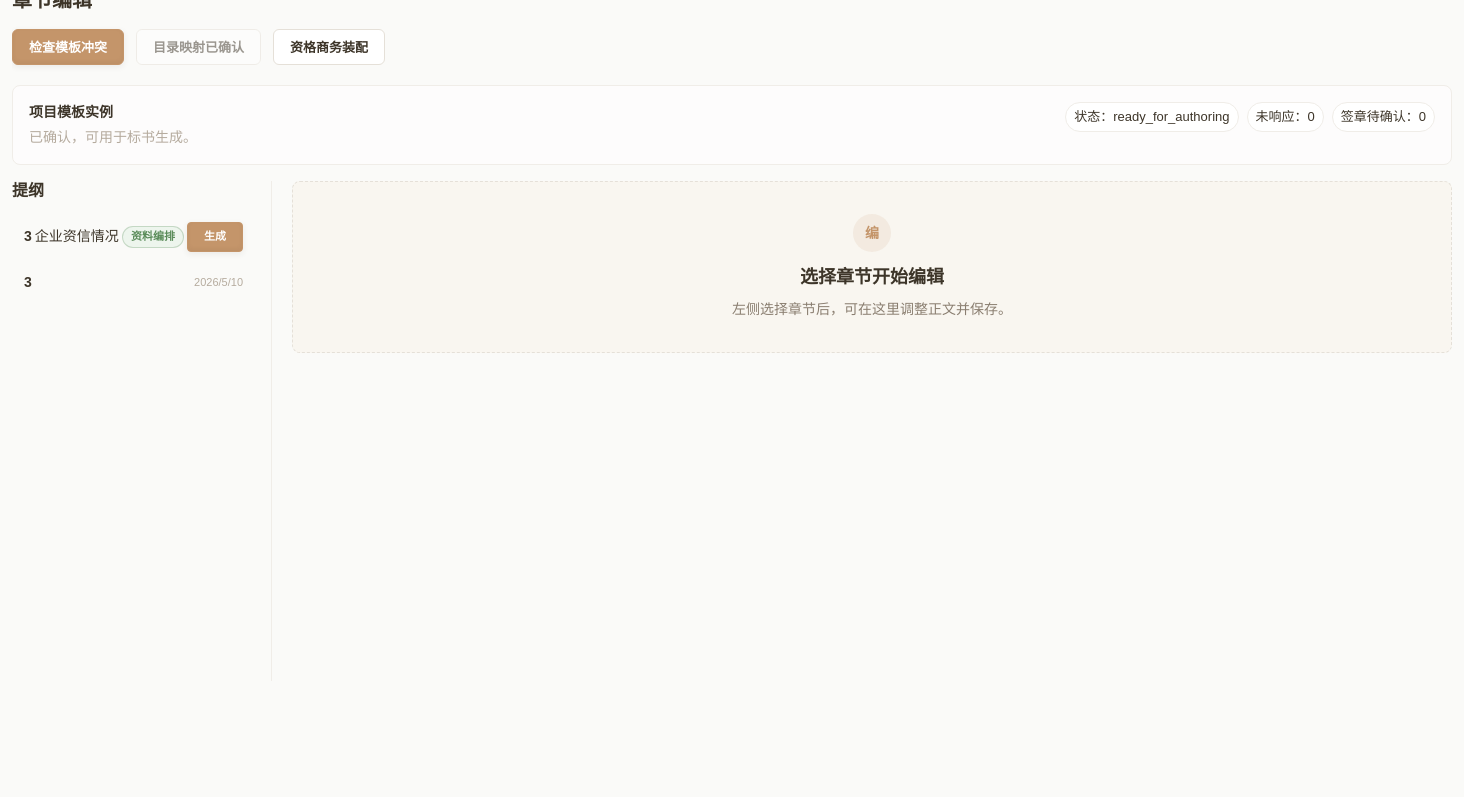
Test: EditorContent chart workflow › highlights material placeholders inside business preview pages
Click the button "资格商务装配".
click(329, 47)  # box [273, 29, 385, 65]
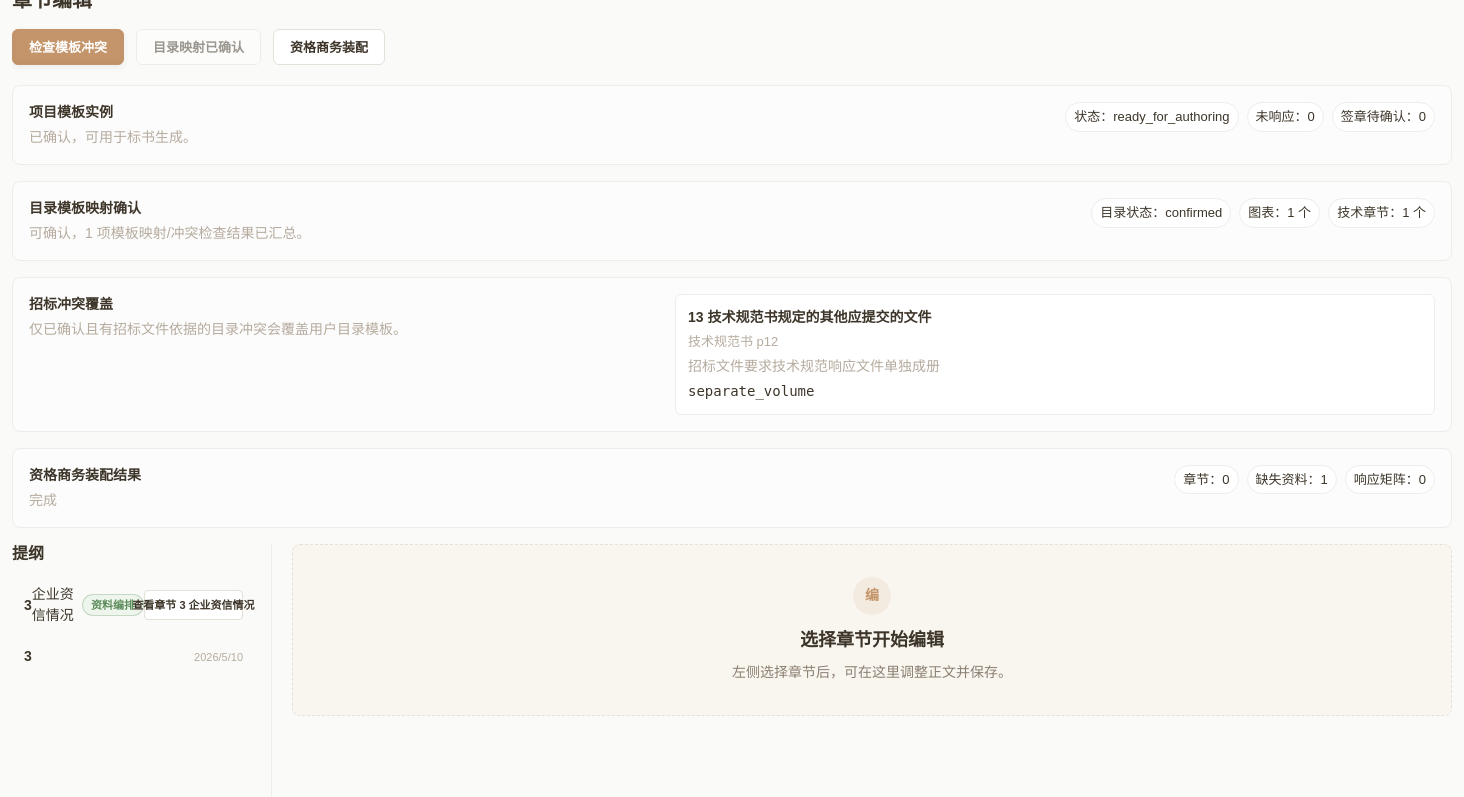
Click the button "查看章节 3 企业资信情况".
click(194, 605)  # box [144, 590, 243, 620]
(page scrolled)
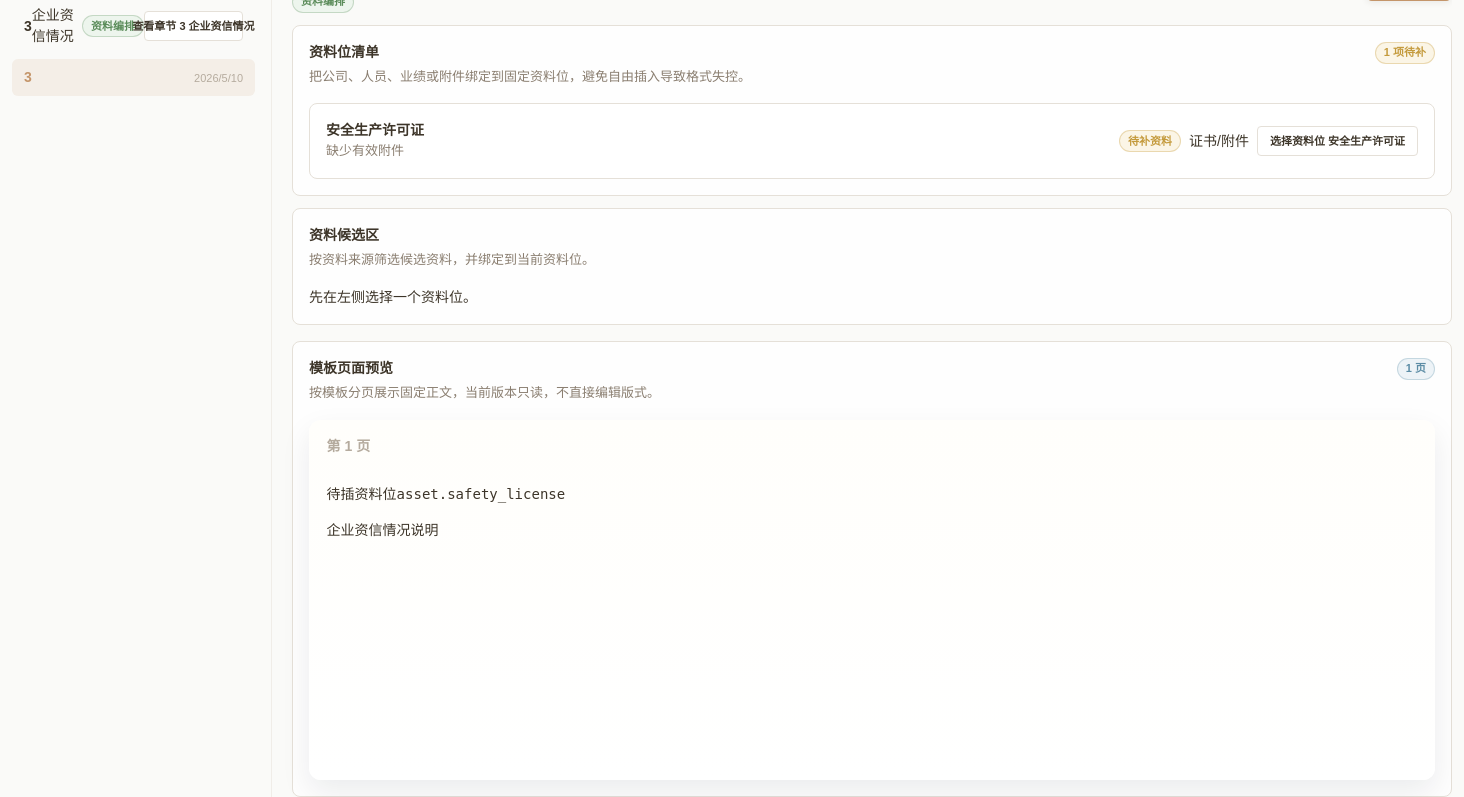
Expected: the text "待插资料位" is shown, [327, 486, 397, 502]
Expected: the text "asset.safety_license" is shown, [397, 486, 565, 502]
